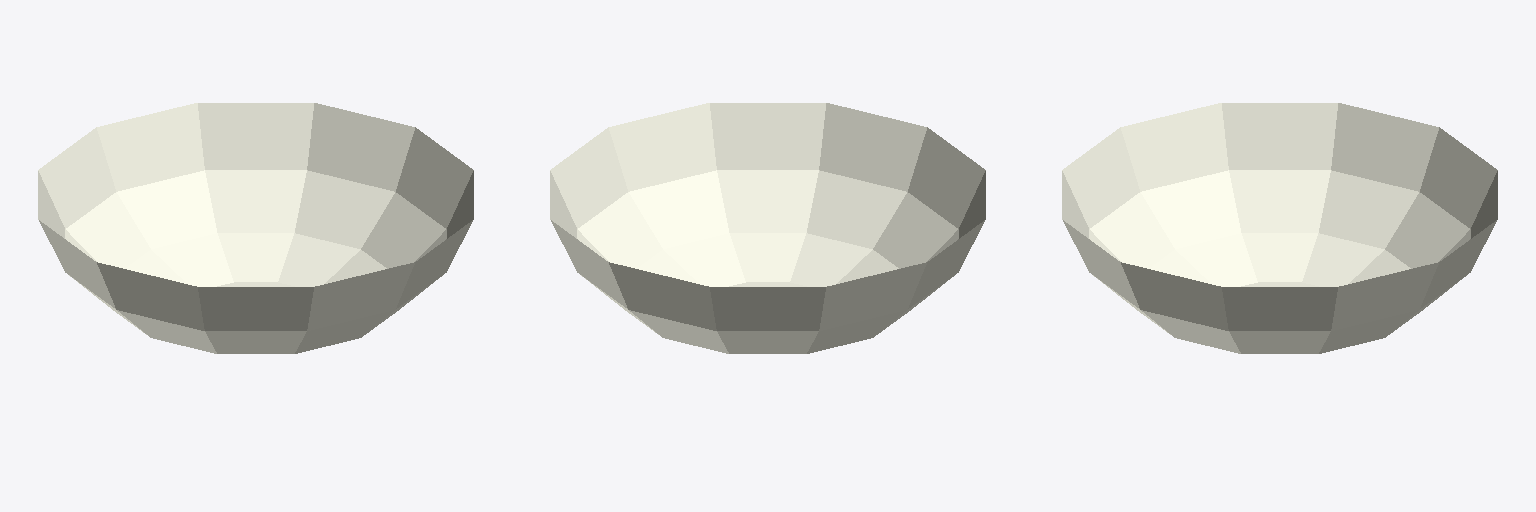
3 renders of one model, left to right at view 1: azimuth 30°, elevation 25°; view 2: azimuth 150°, elevation 25°; view 3: azimuth 270°, elevation 25°, orthographic.
Visible parts, largest first — view 1: SketchUp_ID3.003; view 2: SketchUp_ID3.003; view 3: SketchUp_ID3.003.
Boxes of the visible parts, x1,y1,x2,y2 form: SketchUp_ID3.003: [38, 103, 473, 353]; SketchUp_ID3.003: [550, 103, 985, 353]; SketchUp_ID3.003: [1062, 103, 1497, 353].
Bounding box in the file's own units: 0.5135 × 0.1595 × 0.5135.